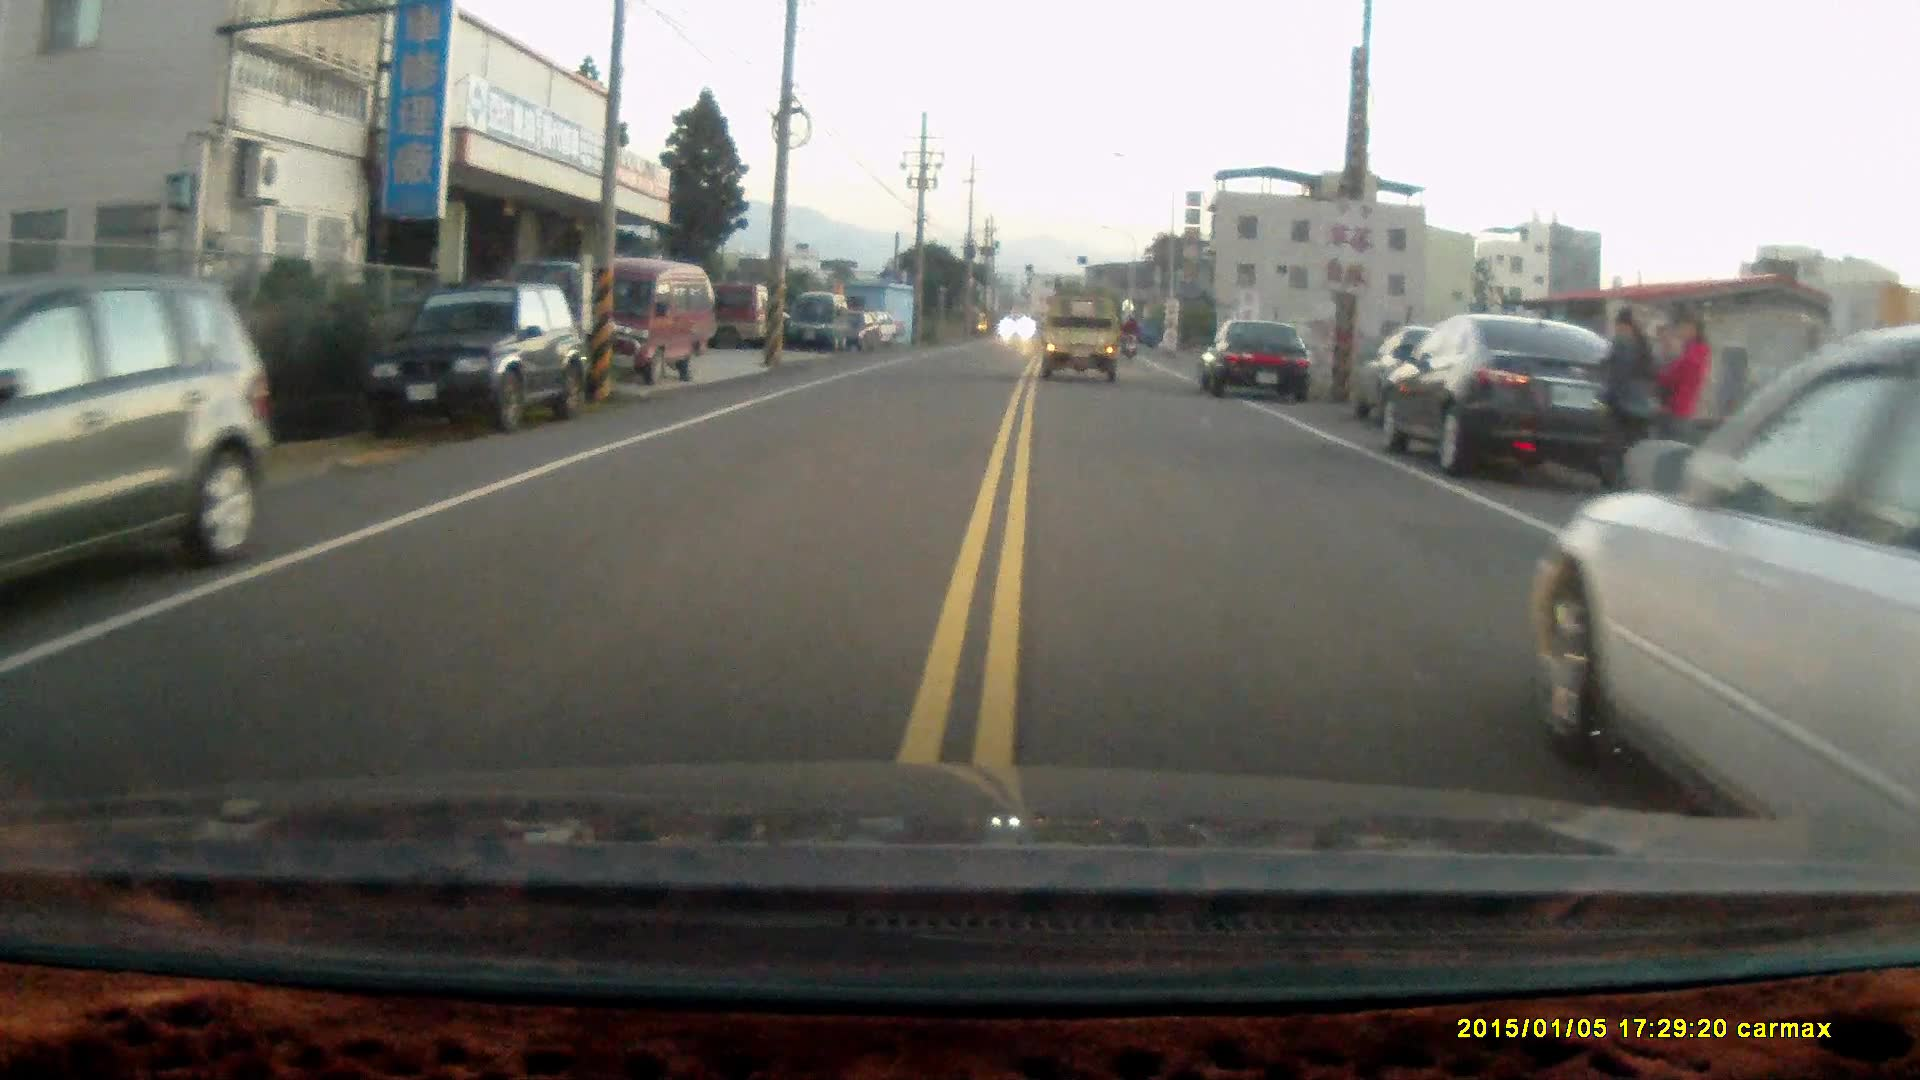pedestrian: (1585, 306, 1659, 516), (1645, 310, 1715, 516)
vehicle: (1528, 324, 1920, 838), (2, 266, 277, 611), (1373, 316, 1660, 482), (367, 279, 578, 435), (552, 254, 721, 383), (1202, 319, 1316, 402), (1036, 289, 1122, 384), (784, 292, 852, 351)
